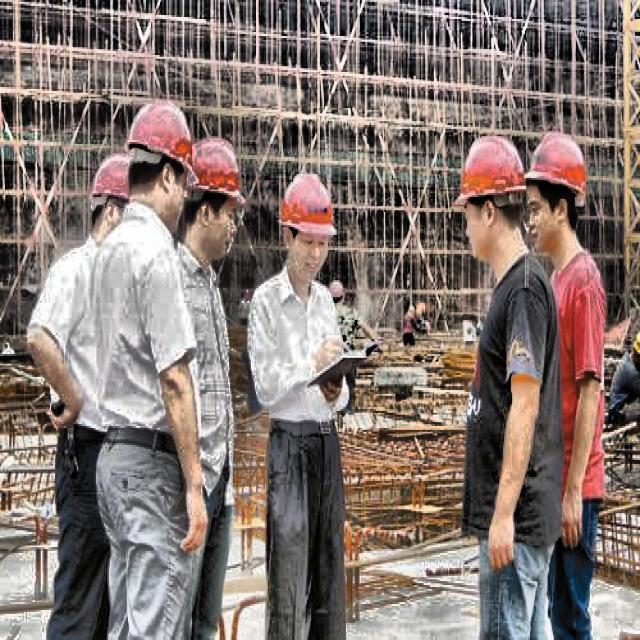helmet: (123, 95, 200, 236), (523, 127, 594, 261), (456, 135, 528, 265), (180, 132, 248, 269), (279, 172, 337, 286), (87, 153, 140, 252)
